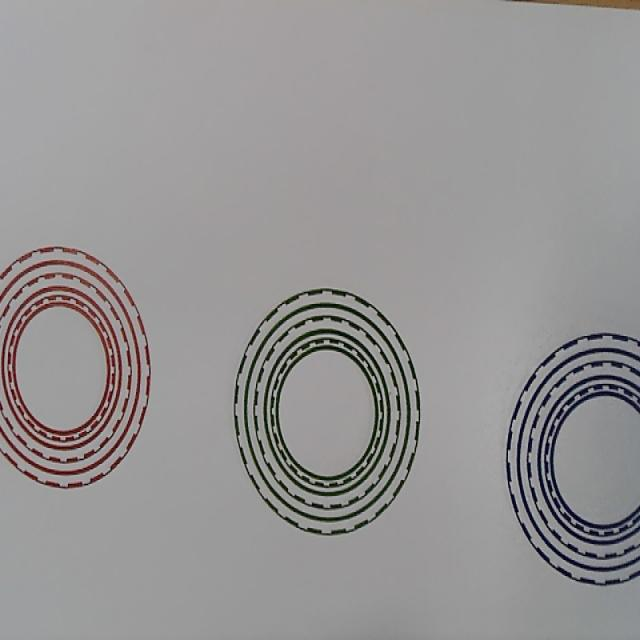g: (234, 288, 421, 536)
